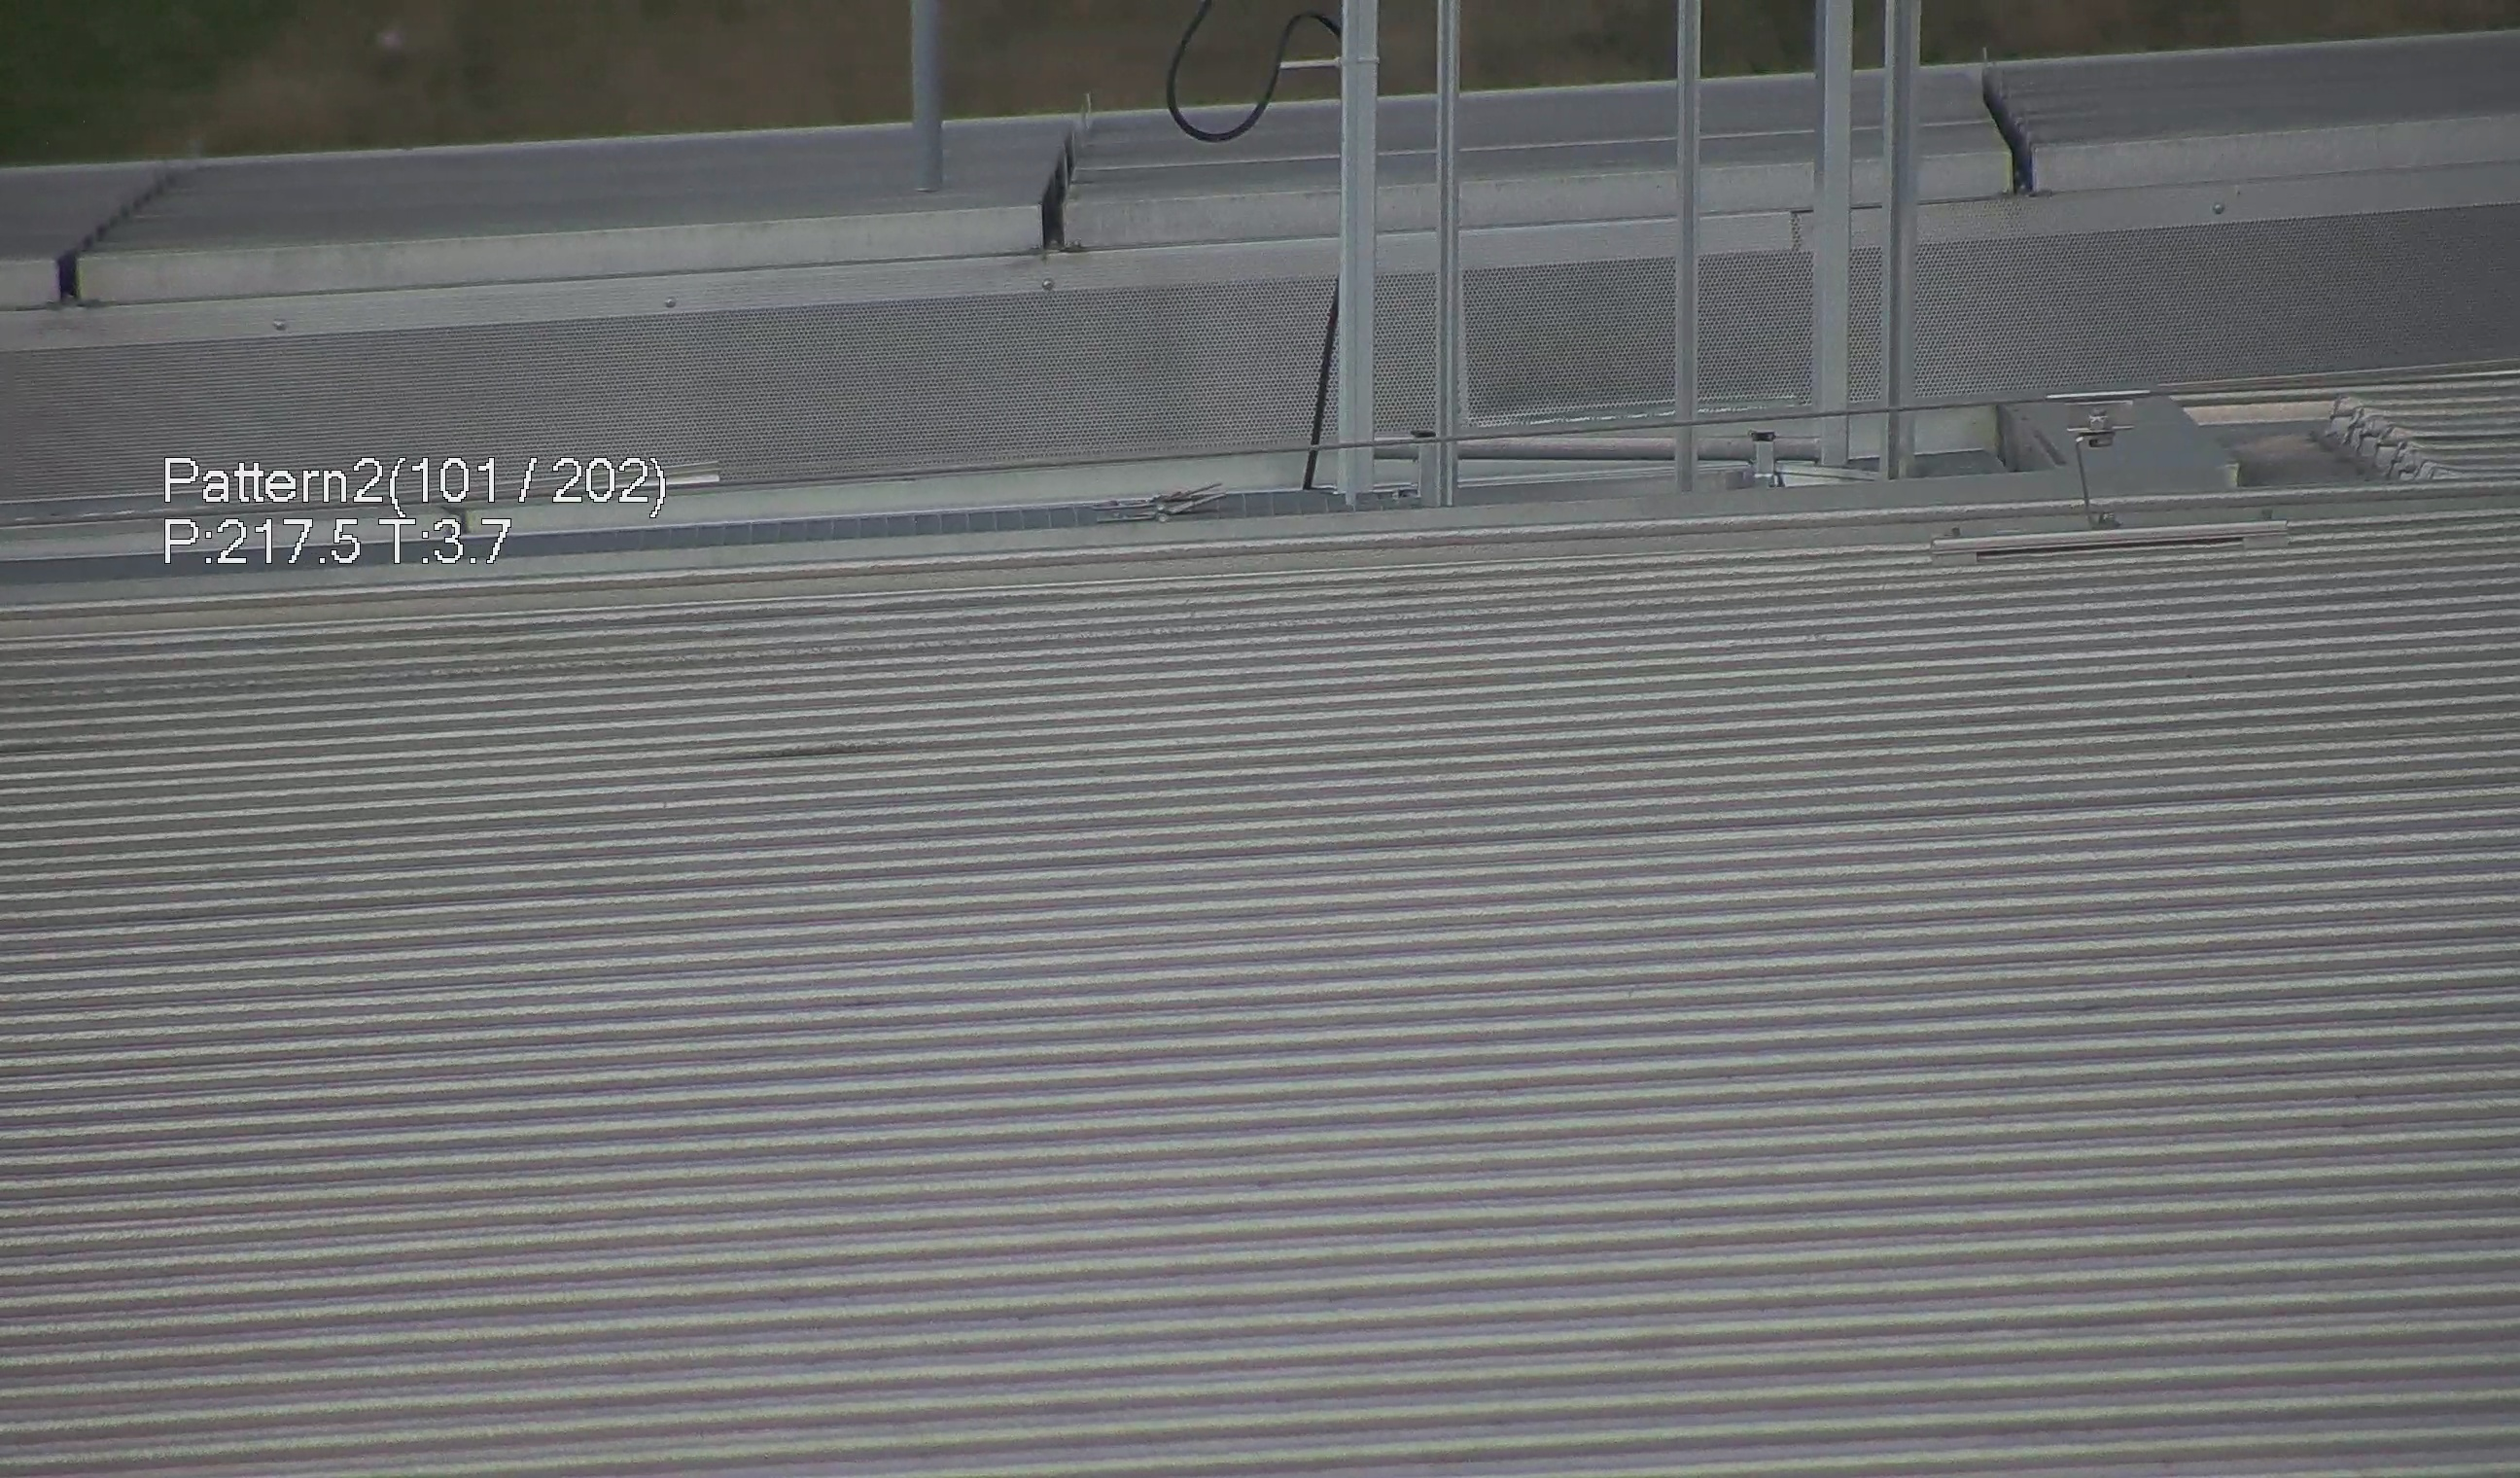Other: (1982, 56, 2061, 199)
